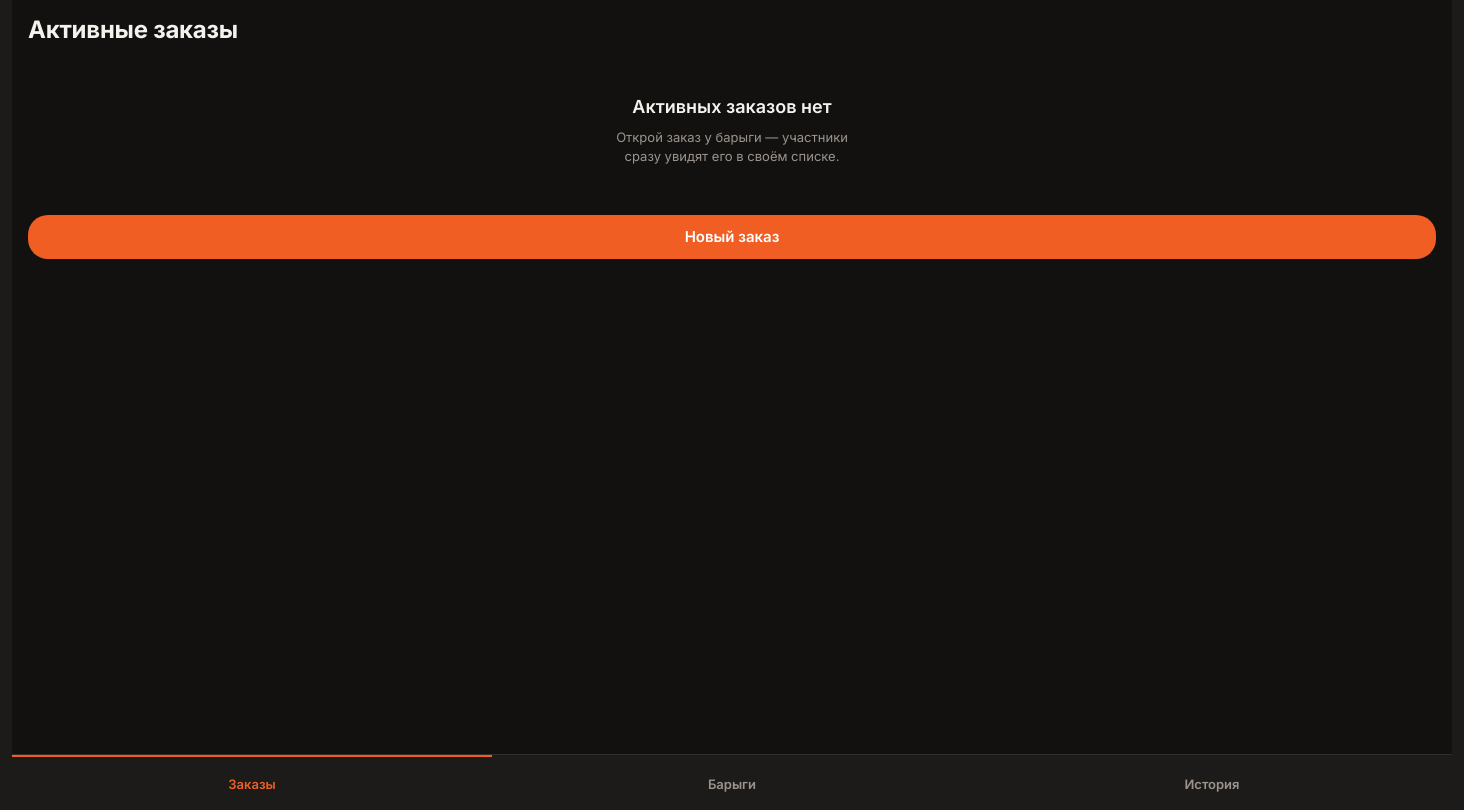
Test: App › gives the admin a history tab that lists past orders
The width and height of the screenshot is (1464, 810).
Expected: the element with test id "shell" is shown, [28,15,1436,259]
Click the button "История" at point(1212, 782), box [972,755,1452,809]
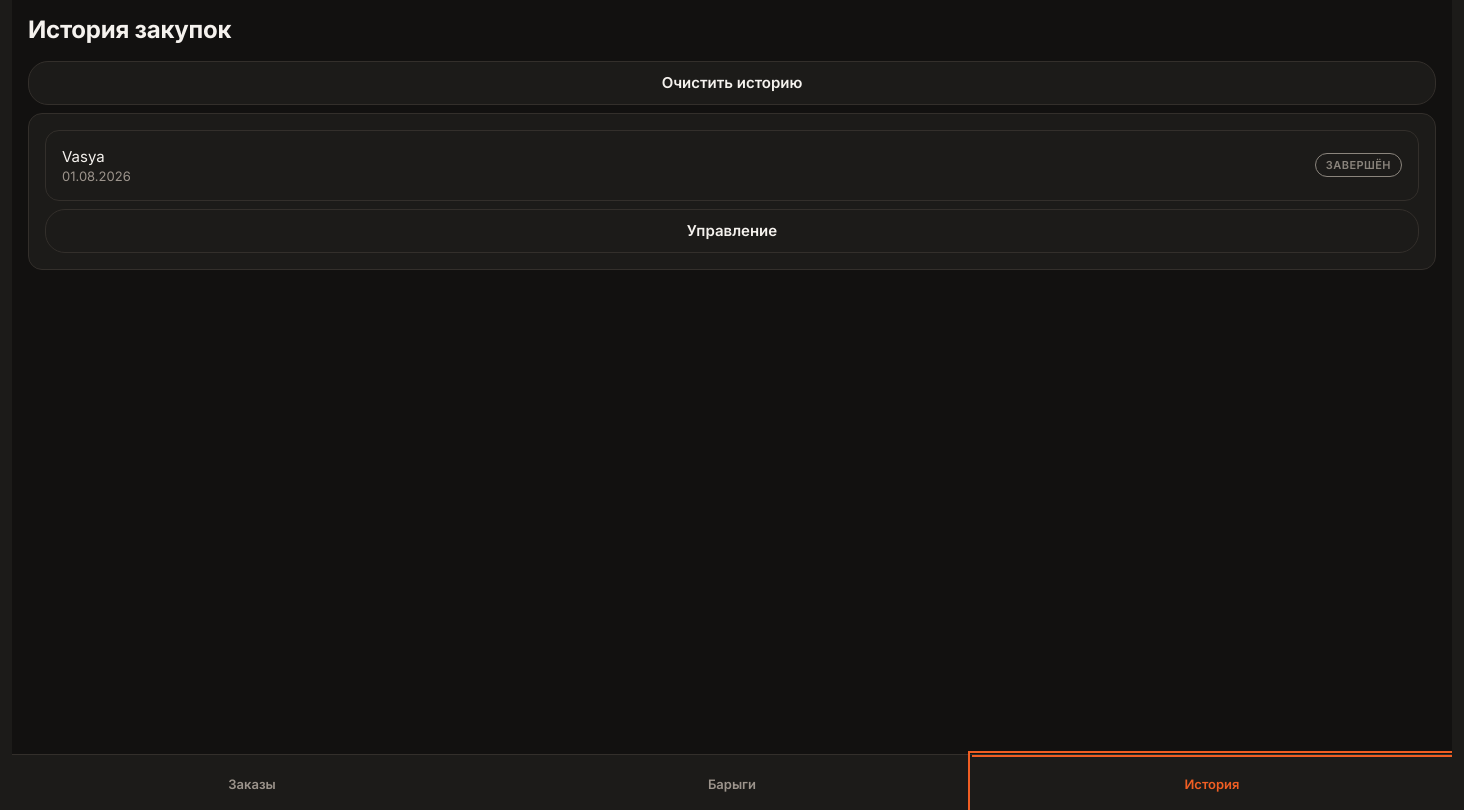
Result: the heading "История закупок" is shown at [28,15,231,44]
Result: the button "Vasya 01.08.2026 Завершён" is shown at [45,130,1419,201]
